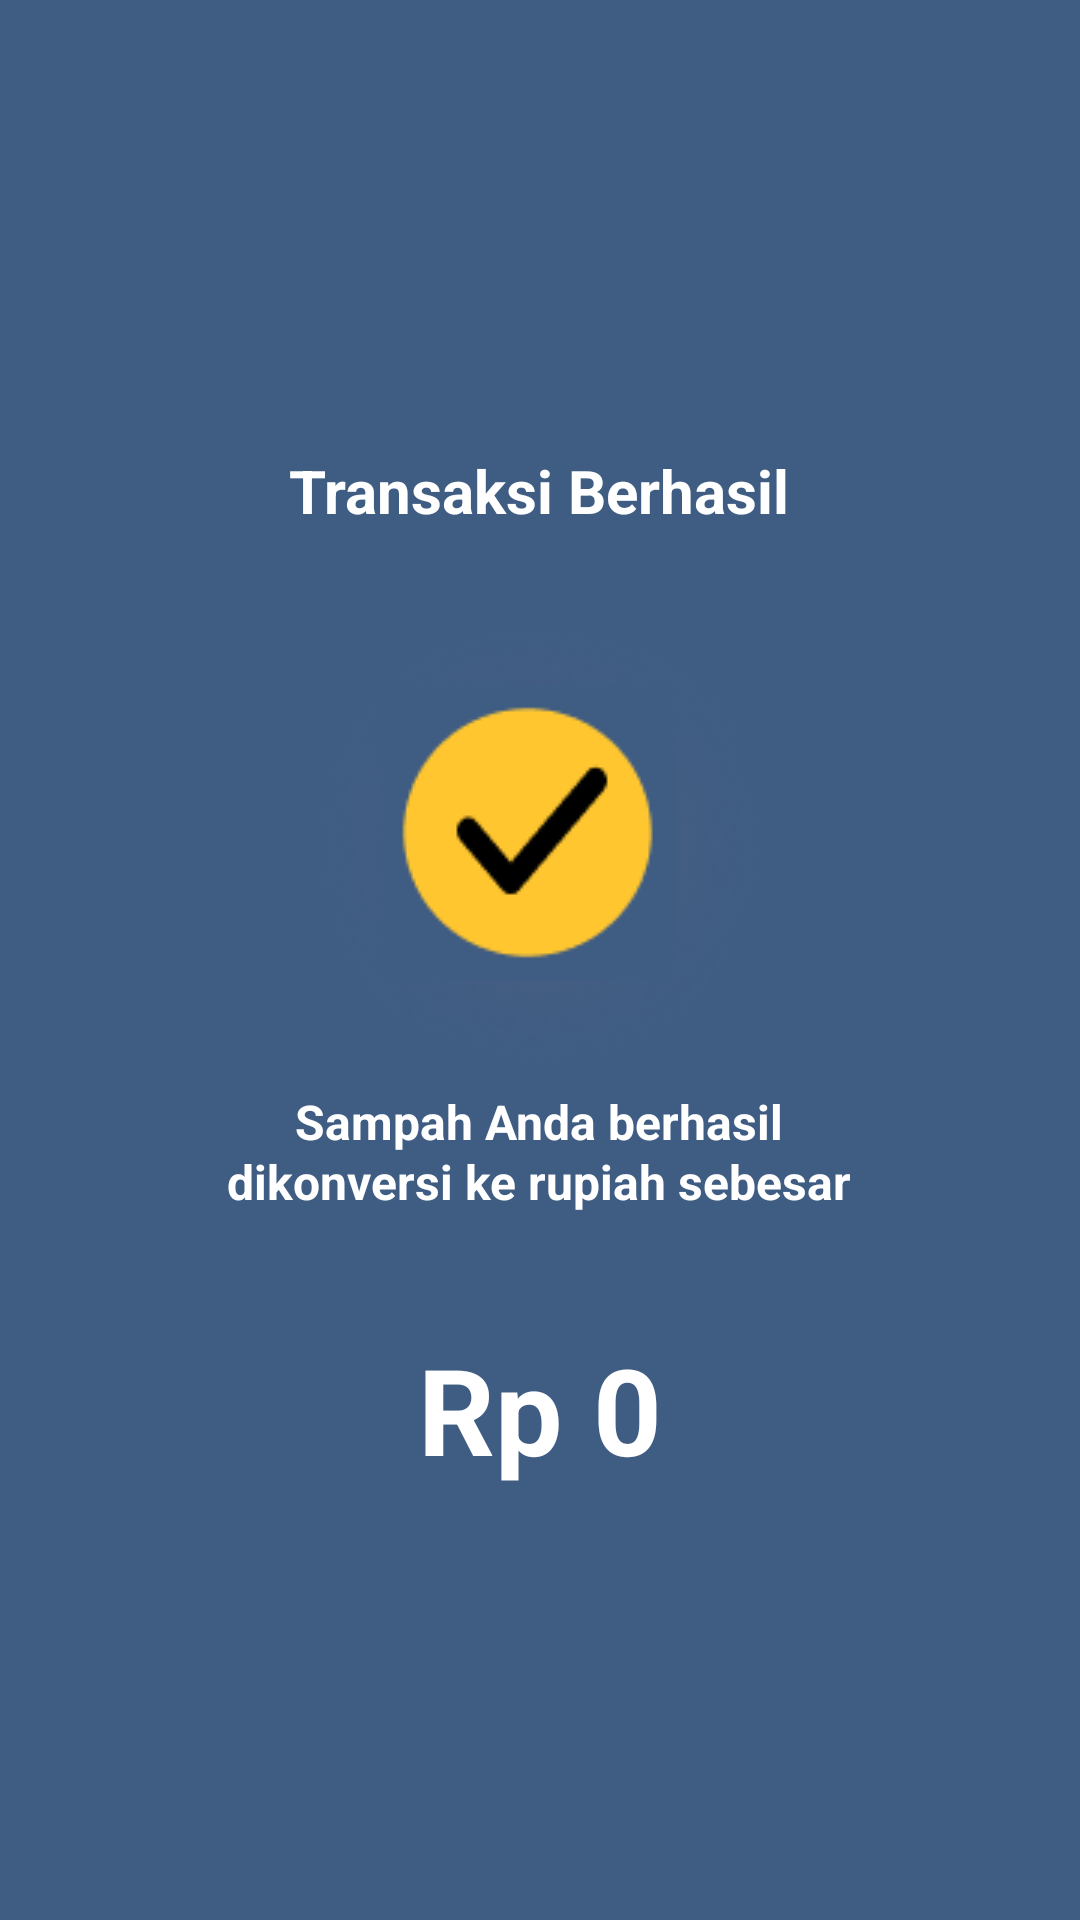

Named icons in this screenshot (1080×1920) and their bounding boxes, (x1, y1, x2, y2):
ceklis: (402, 707, 653, 958)
